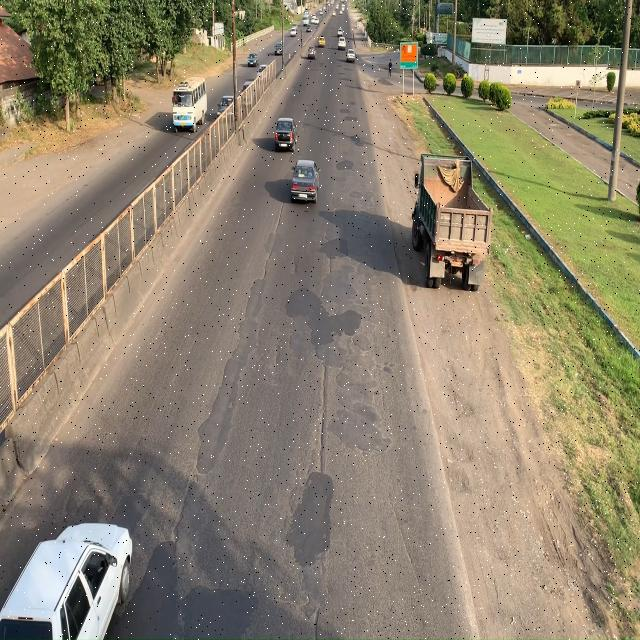Bus: (170, 76, 207, 133)
Truck: (411, 150, 494, 294)
cars: (0, 519, 133, 640), (290, 159, 320, 203), (274, 115, 296, 148)
